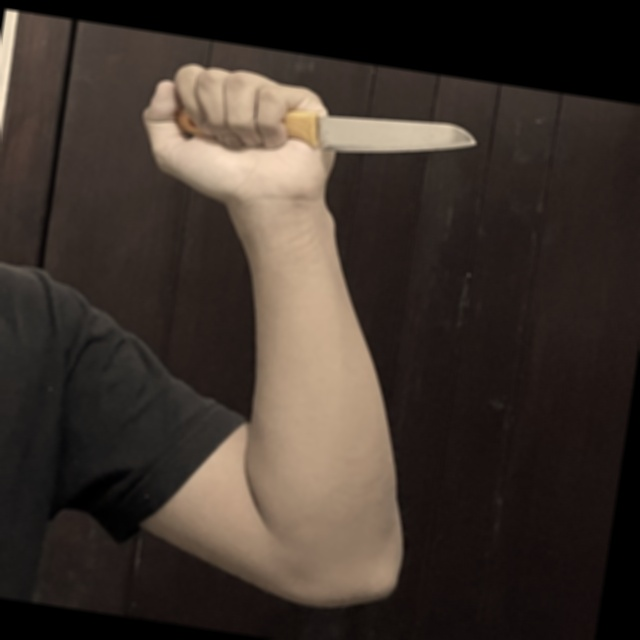Sharp-Object: (170, 79, 482, 182)
